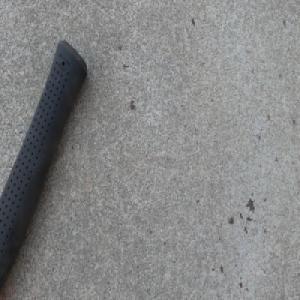Hammer: (0, 36, 89, 290)
